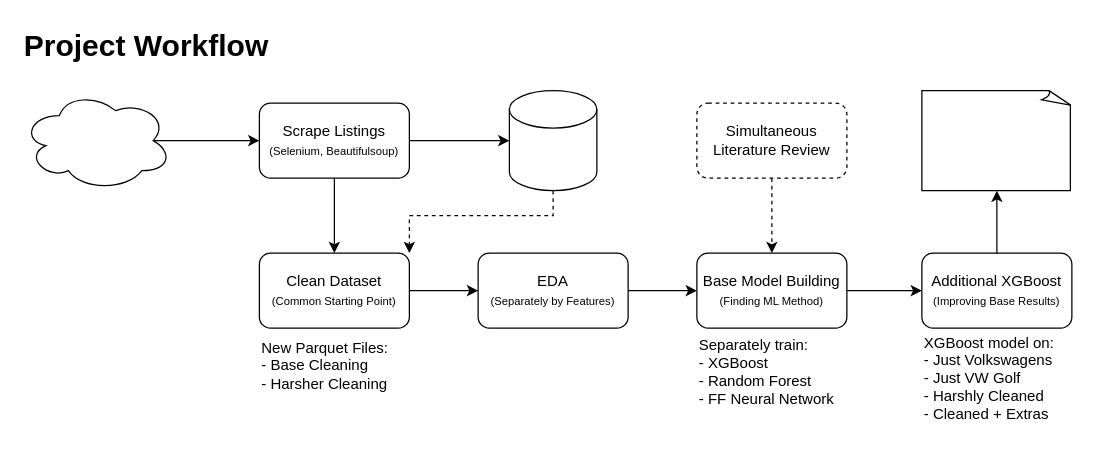
Some shapes in this 1094 by 449 pixel diagram are drawn without their labels. Here are the shapes that lost their labels. From the top down, the centre of each, then its label:
At (x=96, y=140): "Autoscout24".
At (x=552, y=140): "Parquet Dataset".
At (x=996, y=140): "Evaluation, Conclusion, Report Writing".
